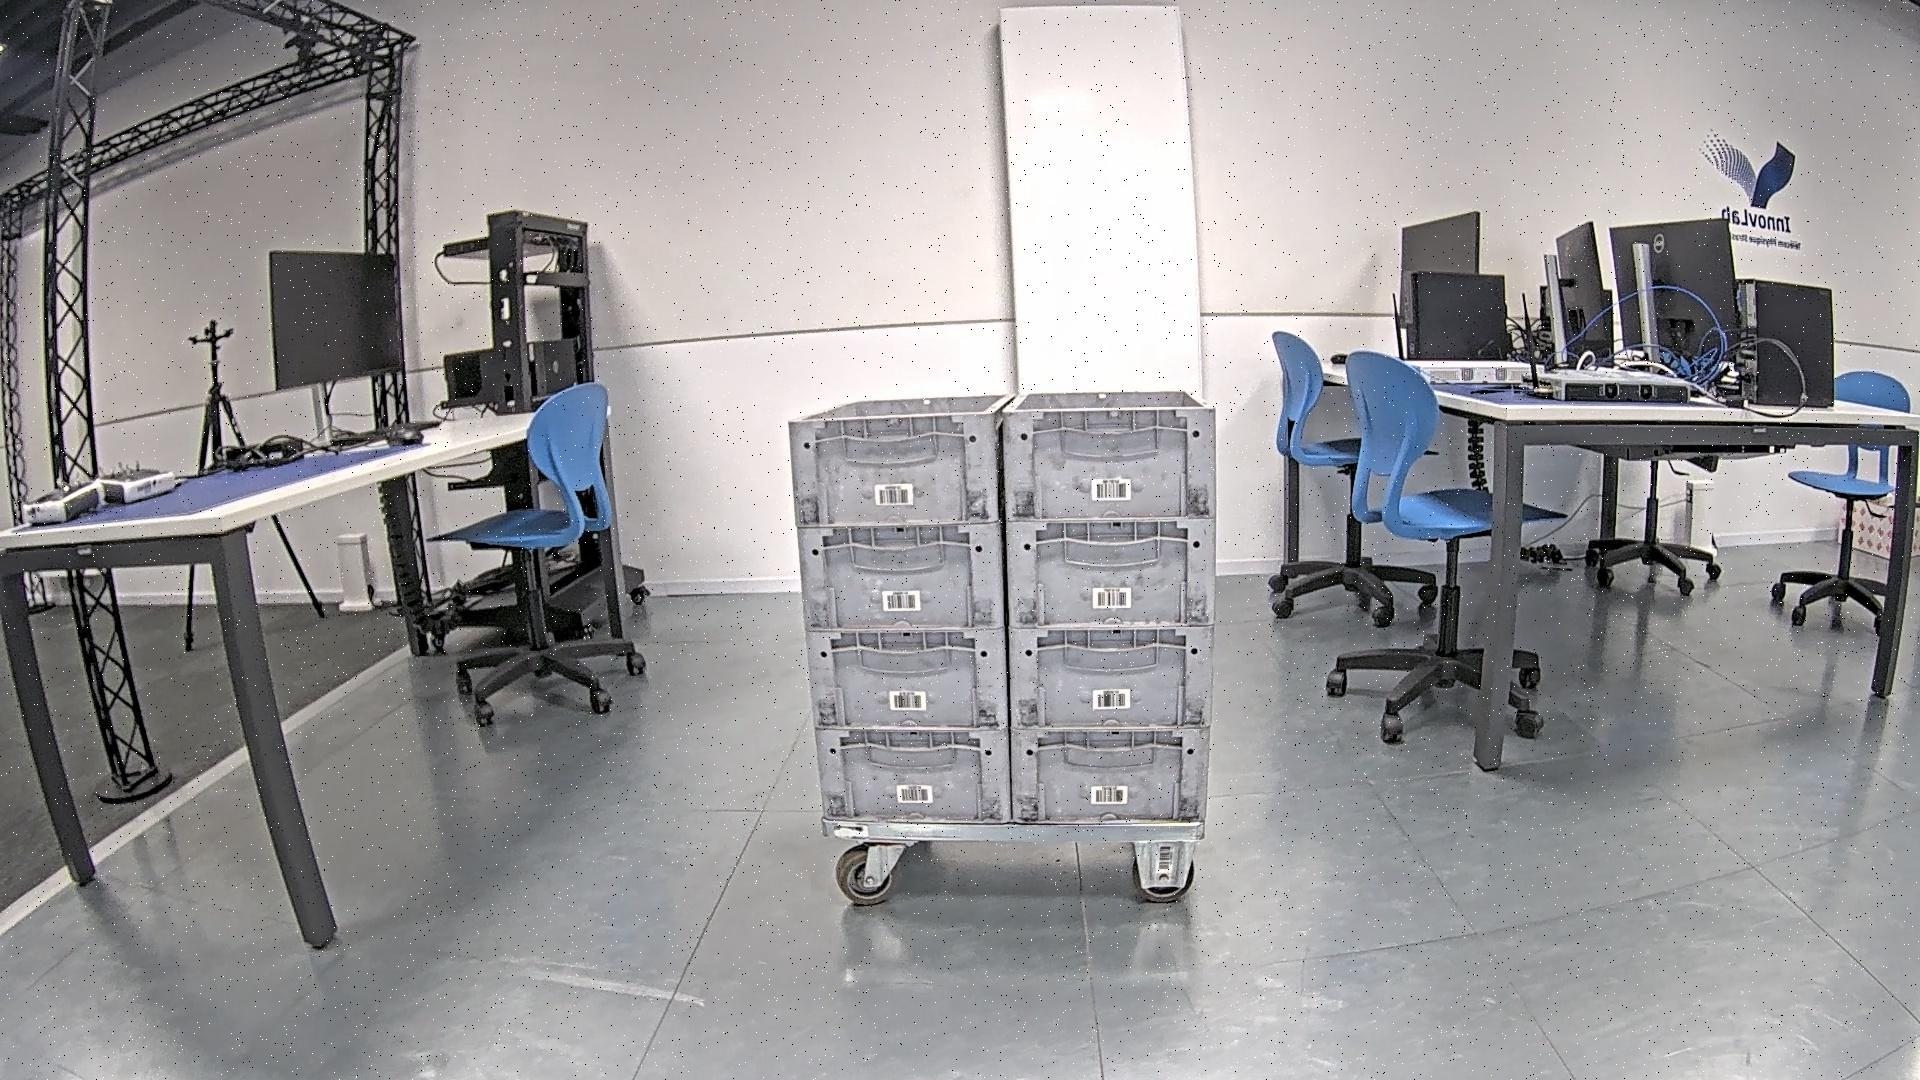Box8G: (785, 386, 1221, 831)
